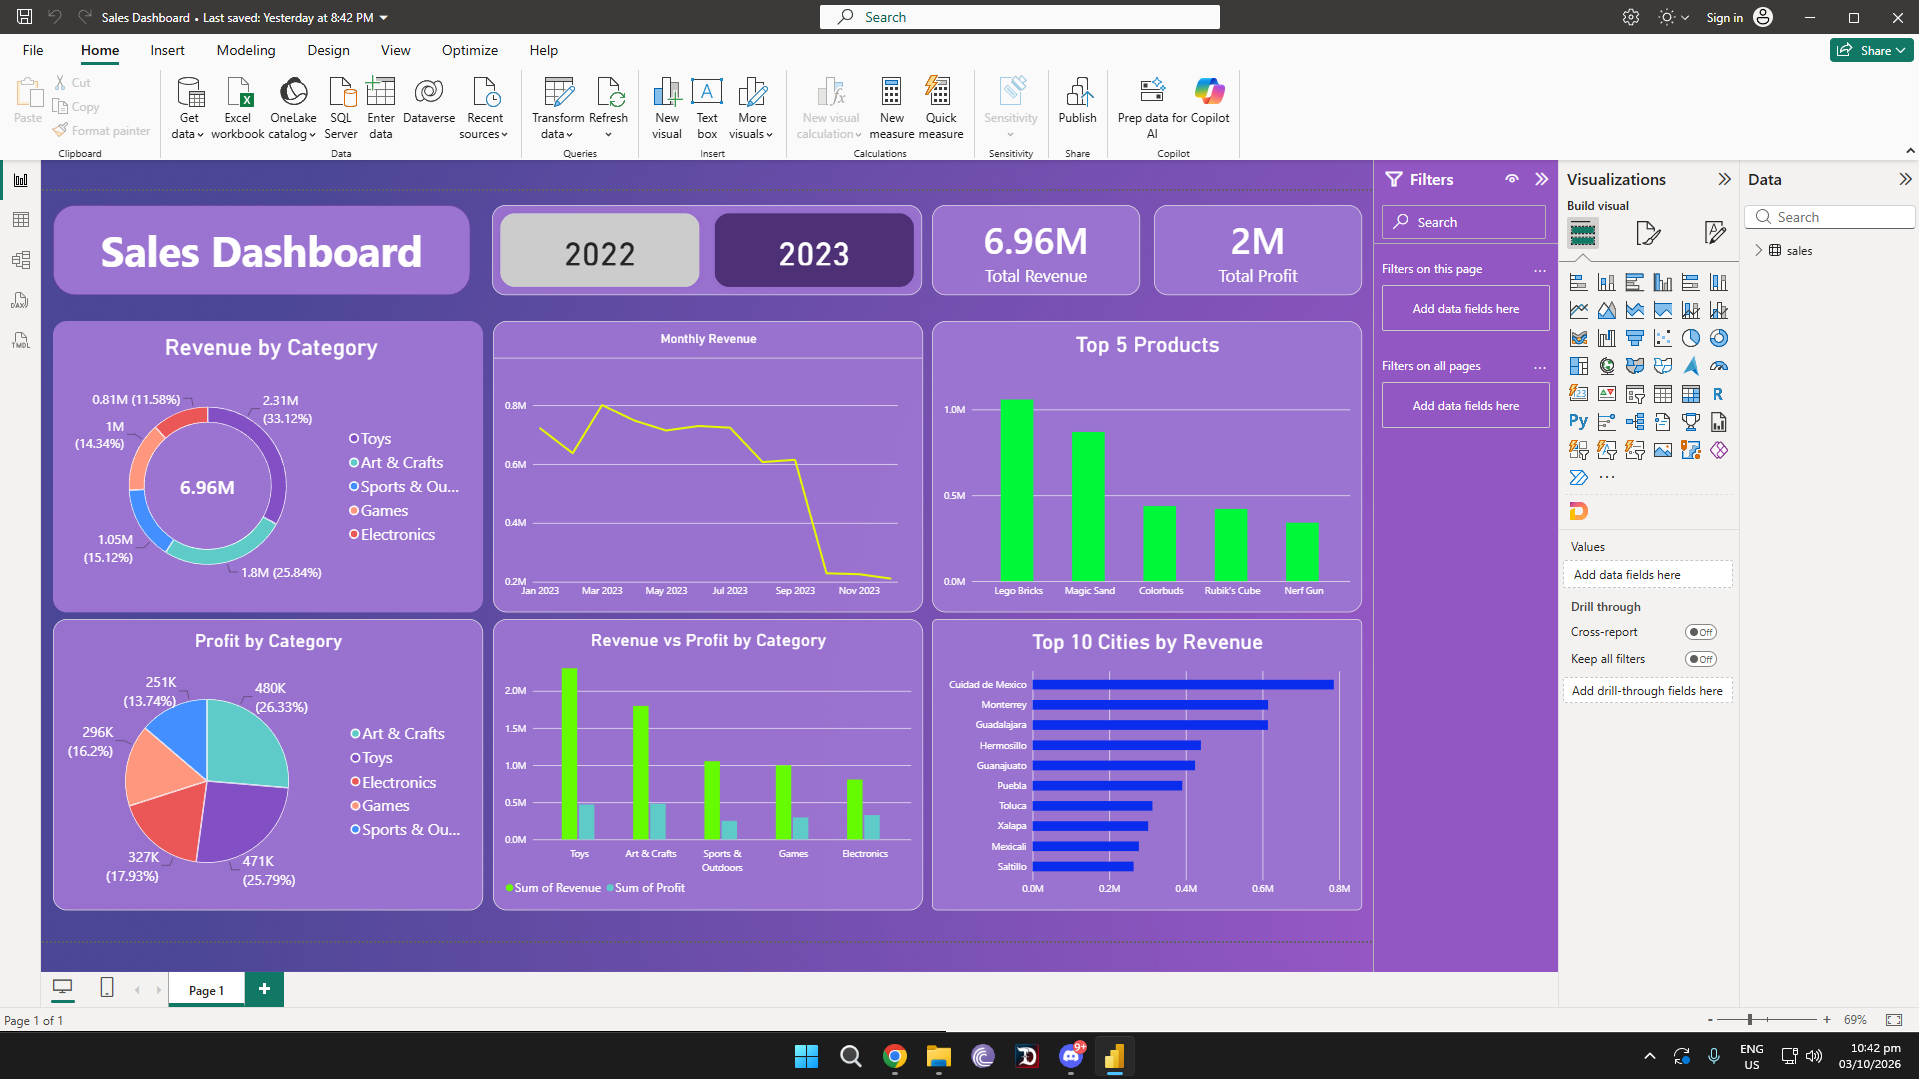

Layout of this report page (visuals, bound fields, positions):
{"tool":"powerbi","page":{"name":"Page 1","canvas":[1920,1080],"ordinal":0},"visuals":[{"type":"shape","box":[16.7,20,601.7,130],"z":0},{"type":"donutChart","title":"Revenue by Category","fields":{"Category":["sales.Product_Category"],"Y":["Sum(sales.Revenue)"]},"box":[16.7,186.7,620,420],"z":1000},{"type":"lineChart","title":"Monthly Revenue","fields":{"Category":["sales.Date.Variation.Date Hierarchy.Year","sales.Date.Variation.Date Hierarchy.Month"],"Y":["Sum(sales.Revenue)"]},"box":[650.8,186.7,620,420],"z":2000},{"type":"clusteredColumnChart","title":"Top 5 Products","fields":{"Category":["sales.Product_Name"],"Y":["Sum(sales.Revenue)"]},"box":[1285,186.7,620,420],"z":3000},{"type":"advancedSlicerVisual","fields":{"Values":["sales.Date.Variation.Date Hierarchy.Year"]},"box":[650,20,620,130],"z":4000},{"type":"card","fields":{"Values":["Sum(sales.Profit)"]},"box":[1605,20,300,130],"z":5000},{"type":"card","fields":{"Values":["Sum(sales.Revenue)"]},"box":[1285,20,300,130],"z":6000},{"type":"clusteredBarChart","title":"Top 10 Cities by Revenue","fields":{"Category":["sales.Store_City"],"Y":["Sum(sales.Revenue)"]},"box":[1285,616.7,620,420],"z":7000},{"type":"clusteredColumnChart","title":"Revenue vs Profit by Category","fields":{"Category":["sales.Product_Category"],"Y":["Sum(sales.Revenue)","Sum(sales.Profit)"]},"box":[651.7,616.7,620,420],"z":7001},{"type":"pieChart","title":"Profit by Category","fields":{"Category":["sales.Product_Category"],"Y":["Sum(sales.Profit)"]},"box":[17,617,620,420],"z":7002}]}

Visuals, with their boxes on the page's 1920x1080 design canvas (x1, y1, x2, y2). These are canvas units, not pixel positions in the 1919x1079 screenshot, which may show the page scaled, cropped or inside an application window:
shape: BBox(17, 20, 618, 150)
"Revenue by Category" donutChart: BBox(17, 187, 637, 607)
"Monthly Revenue" lineChart: BBox(651, 187, 1271, 607)
"Top 5 Products" clusteredColumnChart: BBox(1285, 187, 1905, 607)
advancedSlicerVisual - sales.Date.Variation.Date Hierarchy.Year: BBox(650, 20, 1270, 150)
card - Sum(sales.Profit): BBox(1605, 20, 1905, 150)
card - Sum(sales.Revenue): BBox(1285, 20, 1585, 150)
"Top 10 Cities by Revenue" clusteredBarChart: BBox(1285, 617, 1905, 1037)
"Revenue vs Profit by Category" clusteredColumnChart: BBox(652, 617, 1272, 1037)
"Profit by Category" pieChart: BBox(17, 617, 637, 1037)
